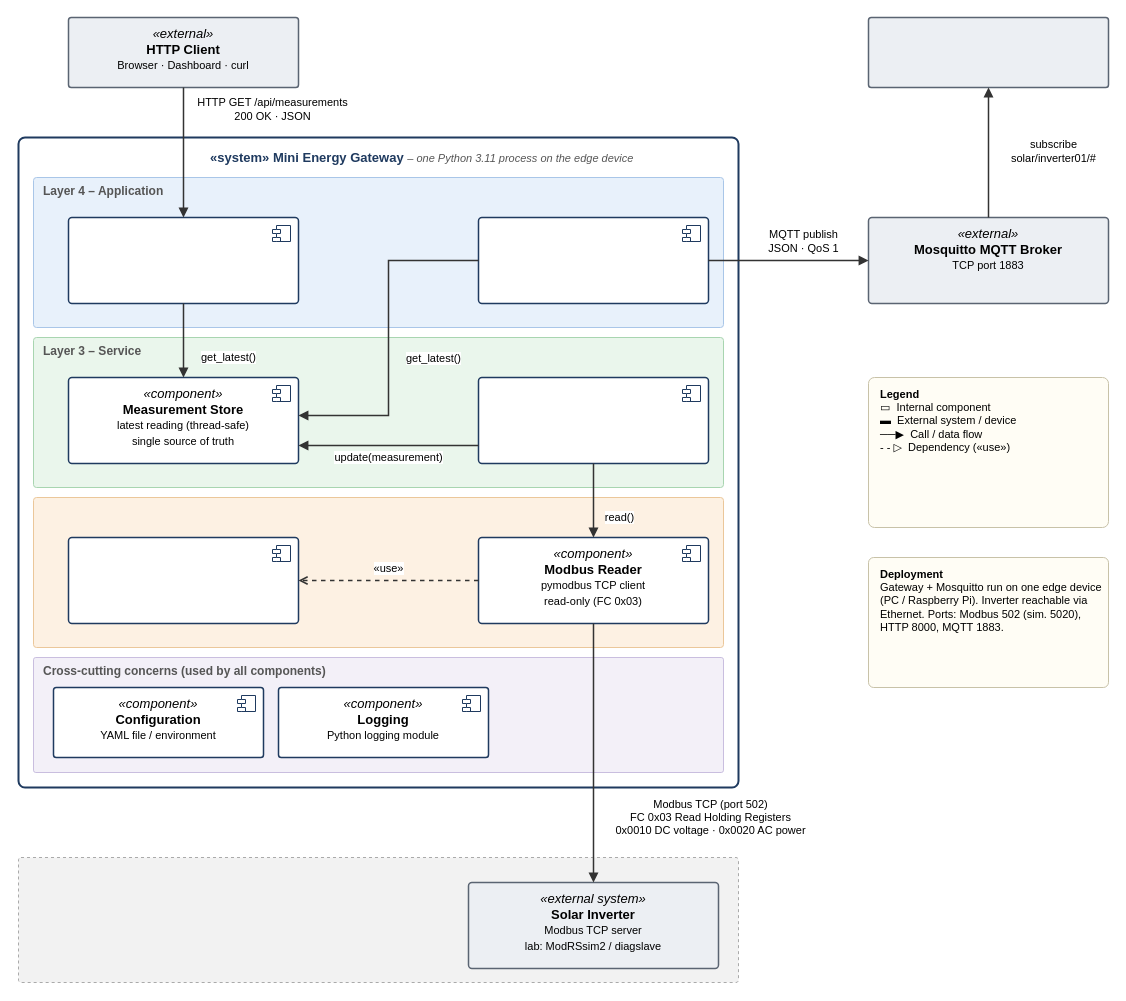
The diagram is 1126 pixels wide and 1001 high, and some of its shapes have lost their labels. Each missing label, with the box of its shape:
Layer 1 – Hardware (external device): (18, 856, 738, 982)
Layer 2 – Hardware Abstraction (HAL): (32, 496, 724, 648)
«component» MQTT Publisher paho-mqtt · every 5 s solar/inverter01/readings: (477, 216, 709, 304)
«component» Poller cyclic scheduler · 5 s timestamp · error handling: (477, 376, 709, 464)
«component» Register Map address · count · data type scale factor · unit: (67, 536, 299, 624)
«component» REST API FastAPI + Uvicorn · port 8000 GET /api/measurements: (67, 216, 299, 304)
«external» MQTT Subscribers Dashboard · Historian · mosquitto_sub: (867, 16, 1109, 88)
